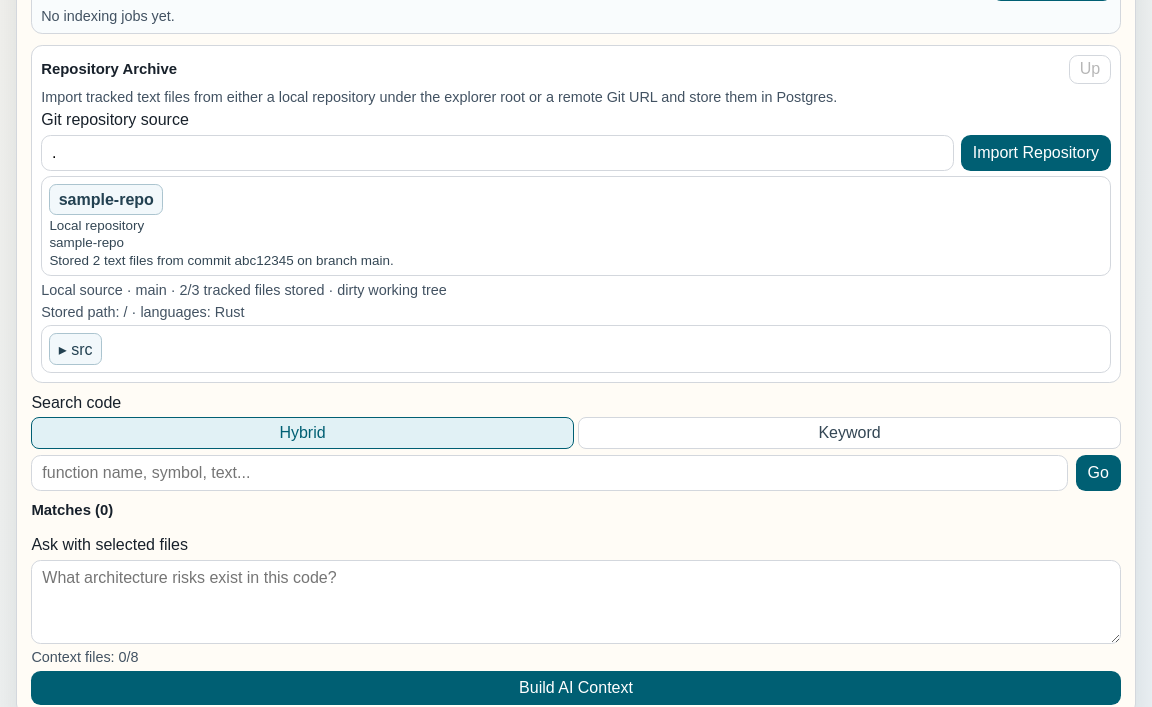
Scenario: Explorer › opens a stored repository file from the repository archive
The image size is (1152, 707).
(page scrolled)
Click the button "▸ src": (76, 349) [49,333,102,365]
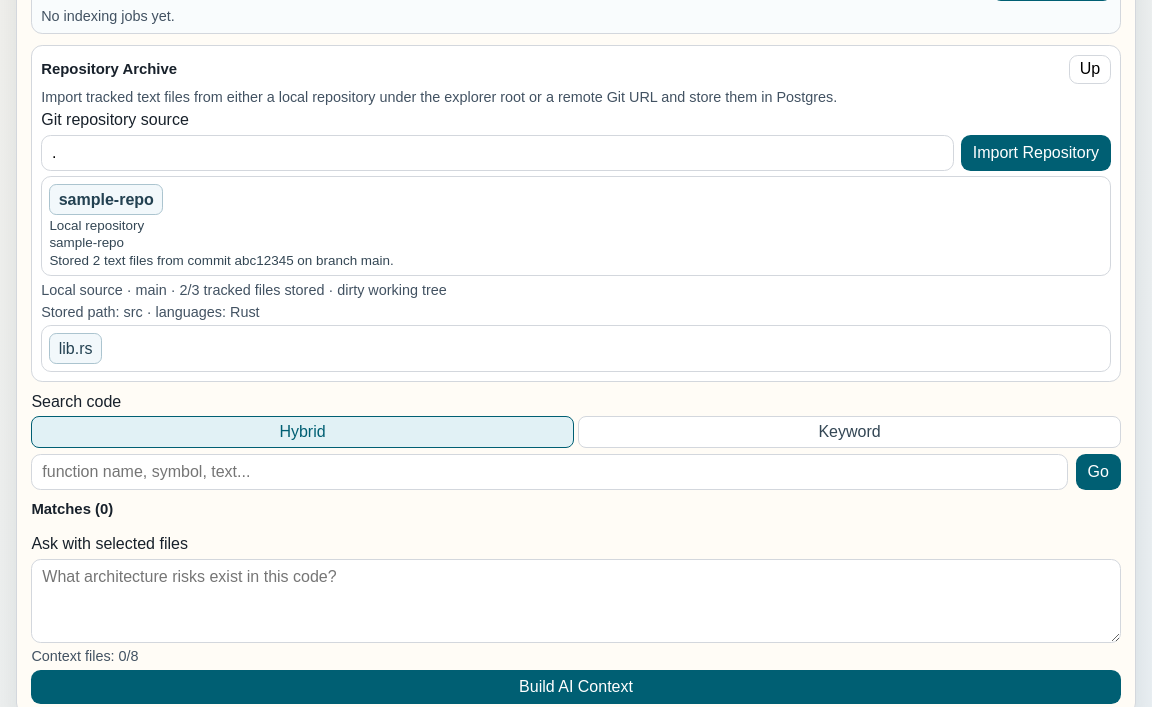
Click the button "lib.rs": (76, 348) [49,333,102,364]
(page scrolled)
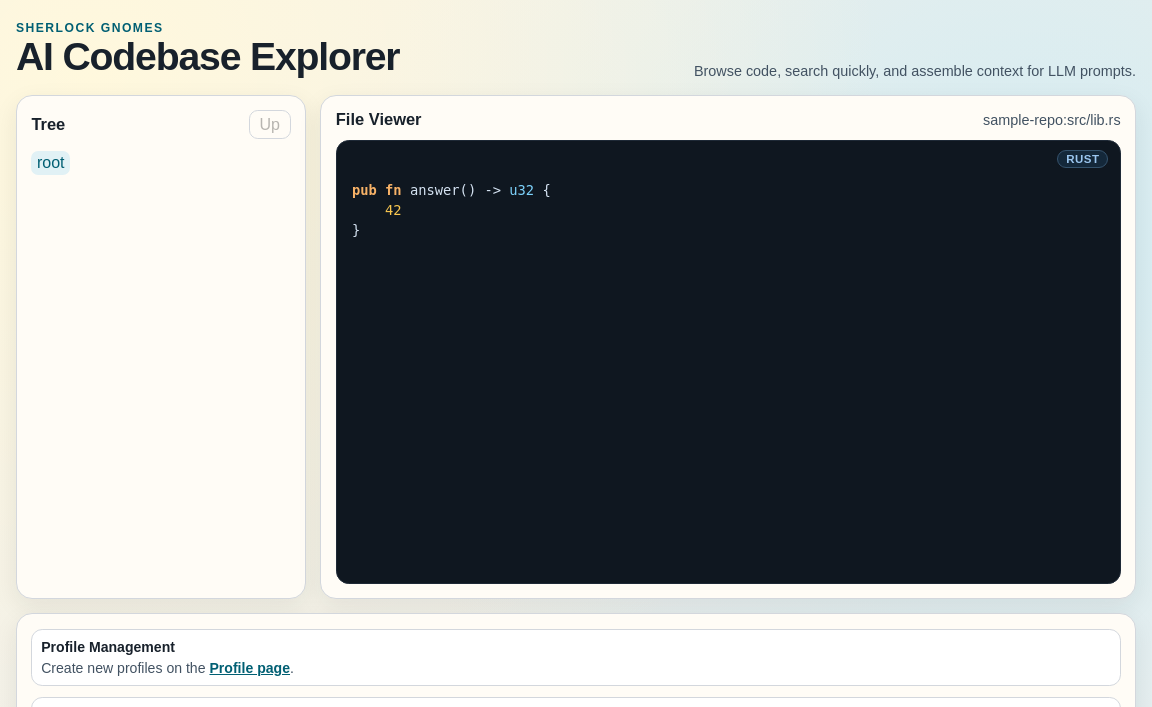
expect the text "Rust" is shown: met, box [1057,150,1108,168]
expect the element named "Code viewer" shows "pub fn answer": met, box [352,182,551,238]
expect the text "sample-repo:src/lib.rs" is shown: met, box [983,112,1121,128]
